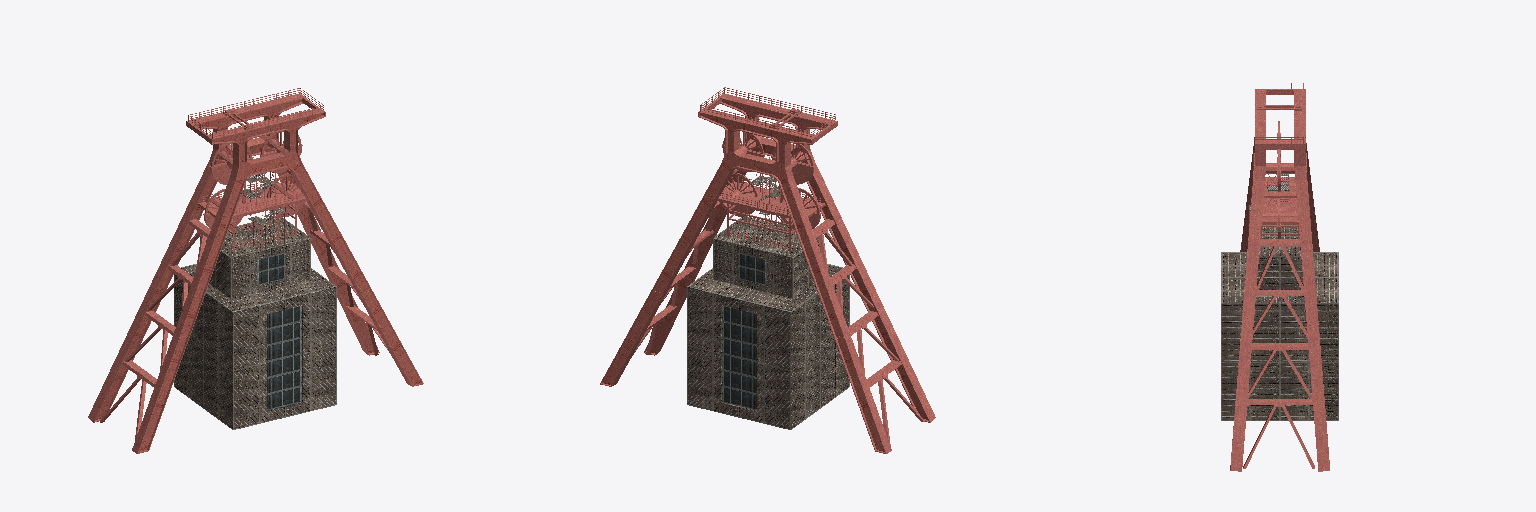
3 renders of one model, left to right at view 1: azimuth 30°, elevation 25°; view 2: azimuth 150°, elevation 25°; view 3: azimuth 270°, elevation 25°, orthographic.
Parts seen in each view (by area): view 1: Mesh; view 2: Mesh; view 3: Mesh.
Boxes of the visible parts, x1=… form: Mesh: x1=88, y1=88, x2=423, y2=453; Mesh: x1=600, y1=87, x2=935, y2=453; Mesh: x1=1221, y1=83, x2=1338, y2=471.
Size of the model in its own units: 43.8 by 42.62 by 15.59.
Materials: 6 (5 with a texture image).